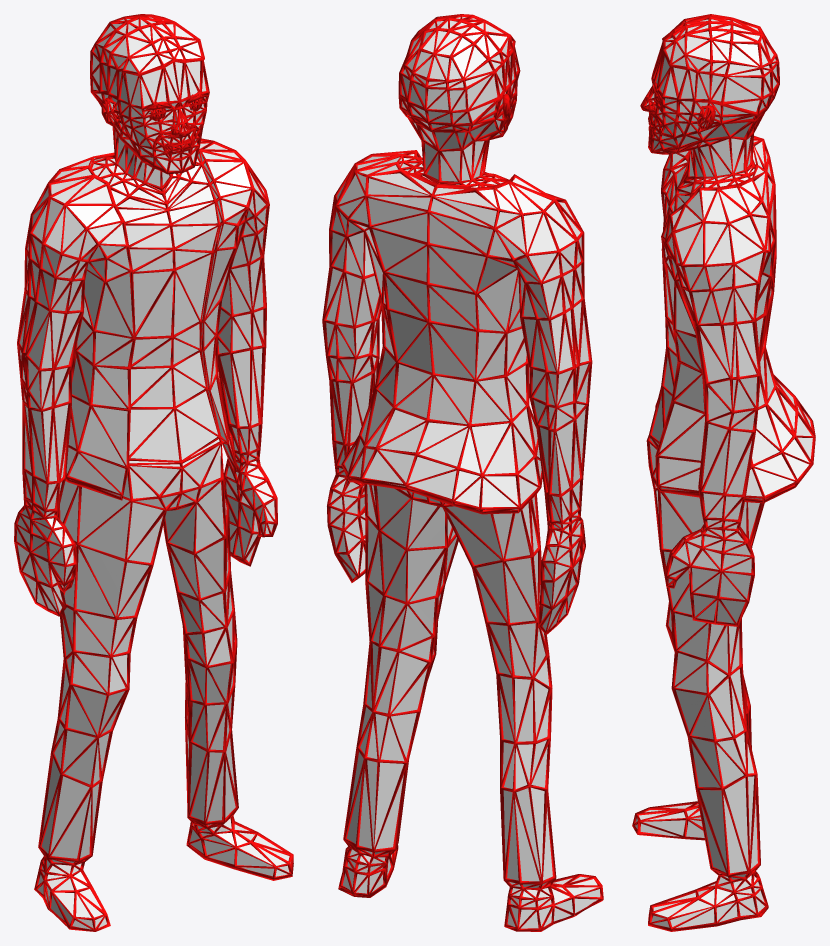
The model's file is elegantIdle_000002.obj.
3 views of the same model, side by side, from view 1: azimuth 30°, elevation 25°; view 2: azimuth 150°, elevation 25°; view 3: azimuth 270°, elevation 25° (orthographic). The views are drawn at different scales.
Visible parts, largest first — view 1: BaseHuman_Cylinder.002; view 2: BaseHuman_Cylinder.002; view 3: BaseHuman_Cylinder.002.
Part boxes in pixels (bbox=[...]): BaseHuman_Cylinder.002: bbox=[14, 14, 293, 931]; BaseHuman_Cylinder.002: bbox=[322, 14, 603, 931]; BaseHuman_Cylinder.002: bbox=[632, 14, 815, 931].
Bounding box in the file's own units: 1.44 × 4.85 × 0.9466.
